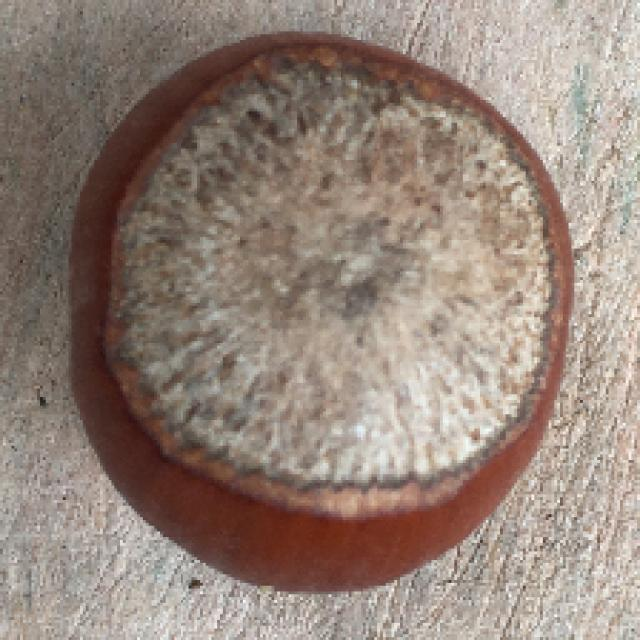qualityHazelnut: (60, 25, 584, 598)
